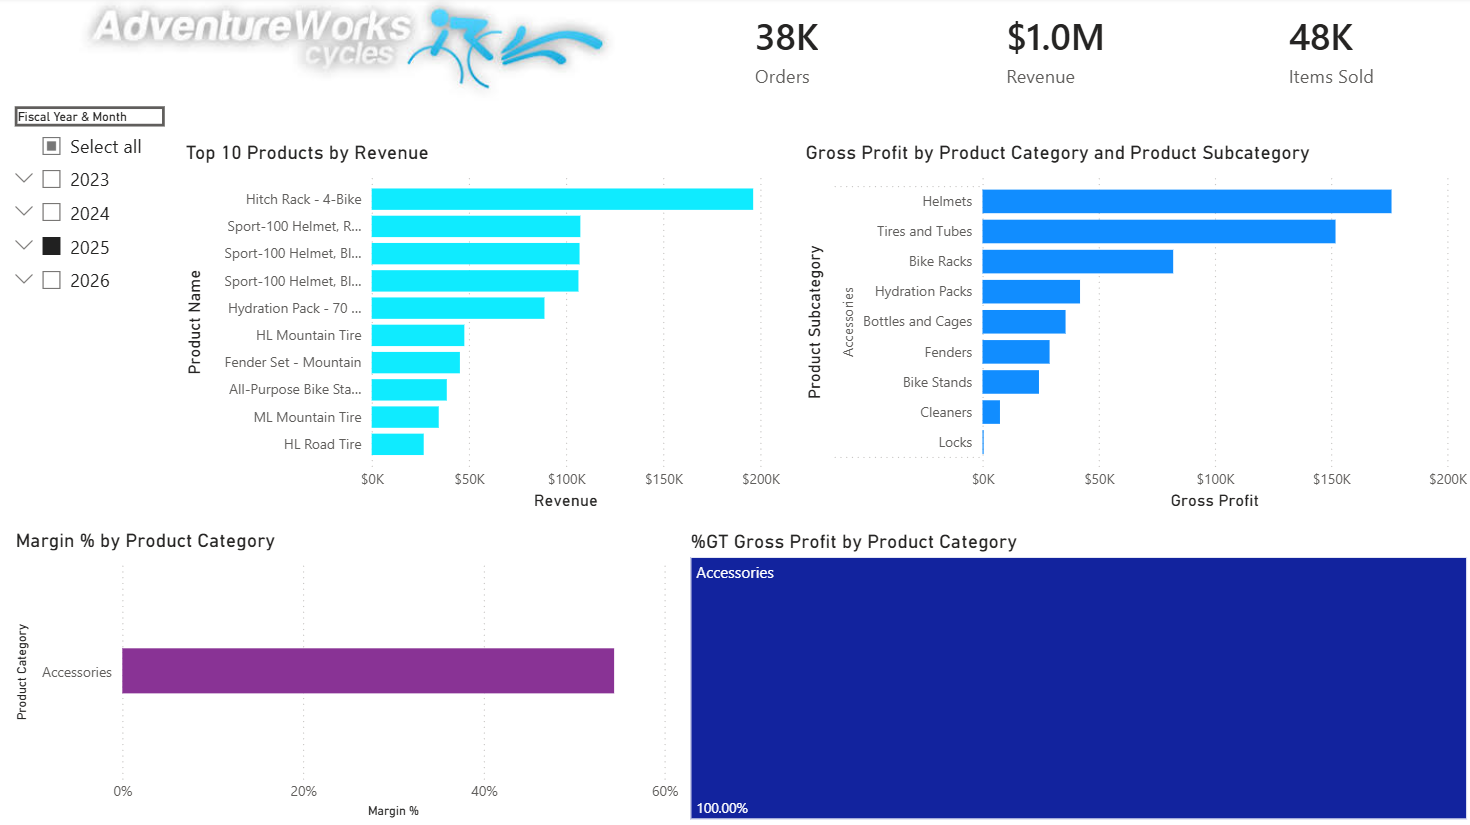

Layout of this report page (visuals, bound fields, positions):
{"tool":"powerbi","page":{"name":"Product Profitability (Top 10)","canvas":[1280,720],"ordinal":2},"visuals":[{"type":"image","box":[8.9,0,586.8,90.4],"z":0},{"type":"cardVisual","fields":{"Data":["Order Items.Orders"]},"box":[629.8,0,133.4,90.4],"z":1000},{"type":"cardVisual","fields":{"Data":["Order Items.Revenue"]},"box":[848.3,0,182.1,90.5],"z":2000},{"type":"cardVisual","fields":{"Data":["Order Items.Items Sold"]},"box":[1093.7,0,133.1,90.6],"z":3000},{"type":"clusteredBarChart","title":"Top 10 Products by Revenue","fields":{"Category":["Products.Product Name"],"Y":["Order Items.Revenue"]},"box":[156.7,125.4,526.5,326],"z":4000},{"type":"clusteredBarChart","fields":{"Category":["Products.Product Category Hierarchy.Product Category","Products.Product Category Hierarchy.Product Subcategory","Products.Product Category Hierarchy.Product Name"],"Y":["Order Items.Gross Profit"]},"box":[695.2,125.3,584.8,326.1],"z":5000},{"type":"treemap","fields":{"Group":["Products.Product Category Hierarchy.Product Category","Products.Product Category Hierarchy.Product Subcategory"],"Values":["Order Items.Gross Profit"]},"box":[595.5,462.3,684.8,257],"z":6000},{"type":"clusteredBarChart","fields":{"Y":["Order Items.Margin %"],"Category":["Products.Product Category Hierarchy.Product Category","Products.Product Category Hierarchy.Product Subcategory","Products.Product Category Hierarchy.Product Name"]},"box":[9,462,586,257],"z":7000},{"type":"slicer","fields":{"Values":["Calendar.Fiscal Year Hierarchy.Fiscal Year","Calendar.Fiscal Year Hierarchy.Fiscal Month"]},"box":[0,90.3,156.3,316.6],"z":8000}]}

Visuals, with their boxes in screenshot pixels (x1, y1, x2, y2), scaled from the page's 1280x720 canvas onto the 1470x825 screenshot:
image: [10,0,684,104]
cardVisual - Order Items.Orders: [723,0,876,104]
cardVisual - Order Items.Revenue: [974,0,1183,104]
cardVisual - Order Items.Items Sold: [1256,0,1409,104]
"Top 10 Products by Revenue" clusteredBarChart: [180,144,785,517]
clusteredBarChart - Products.Product Category Hierarchy.Product Category x Products.Product Category Hierarchy.Product Subcategory: [798,144,1469,517]
treemap - Products.Product Category Hierarchy.Product Category x Products.Product Category Hierarchy.Product Subcategory: [684,530,1469,824]
clusteredBarChart - Order Items.Margin % x Products.Product Category Hierarchy.Product Category: [10,529,683,824]
slicer - Calendar.Fiscal Year Hierarchy.Fiscal Year x Calendar.Fiscal Year Hierarchy.Fiscal Month: [0,103,180,466]
